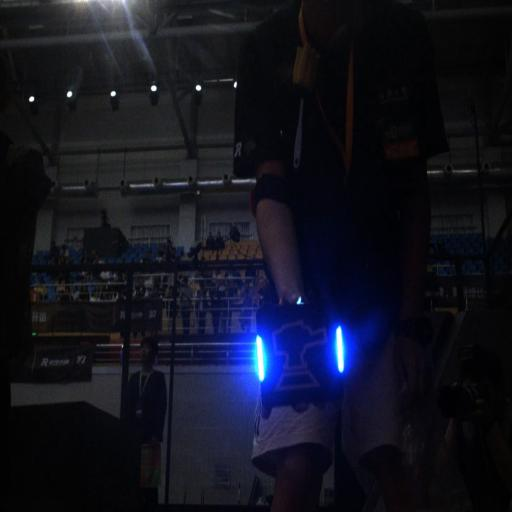target: (250, 300, 349, 410)
